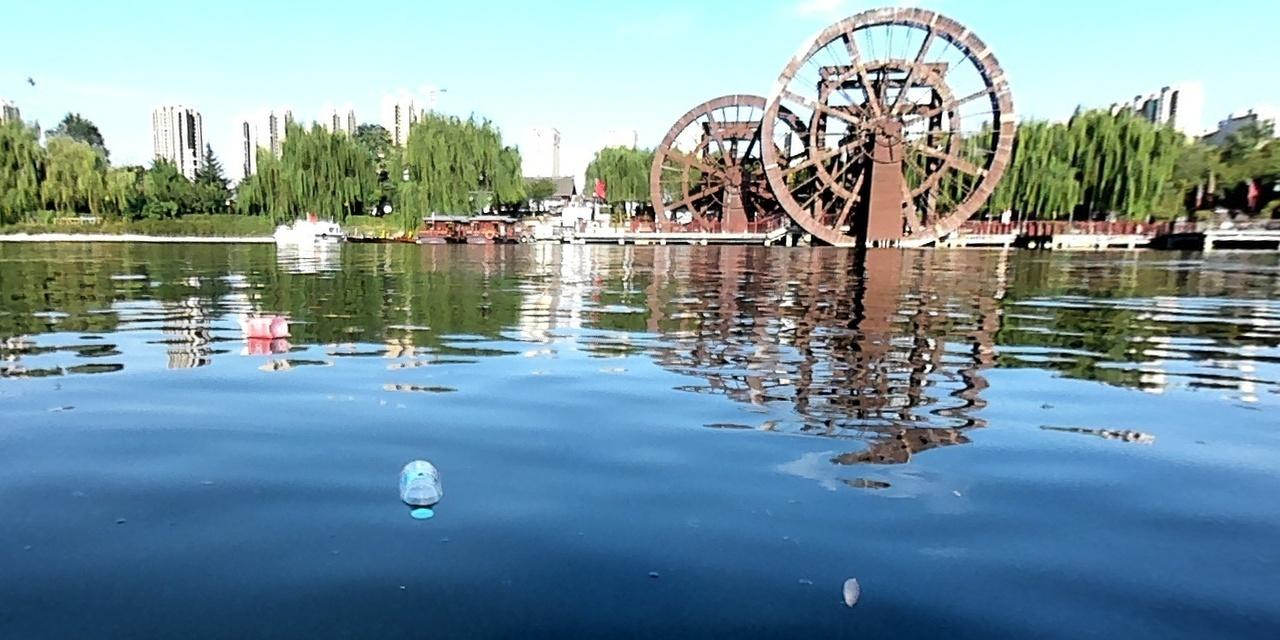bottle: (393, 454, 444, 520), (238, 313, 292, 339)
